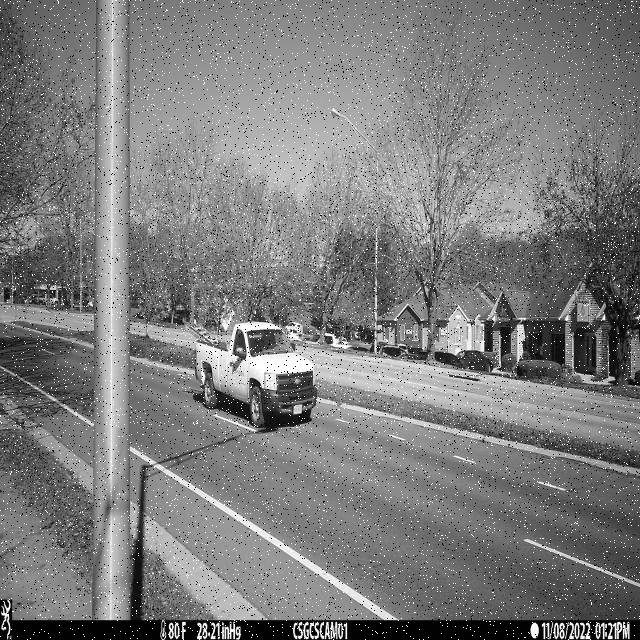Pickup: (195, 321, 317, 428)
